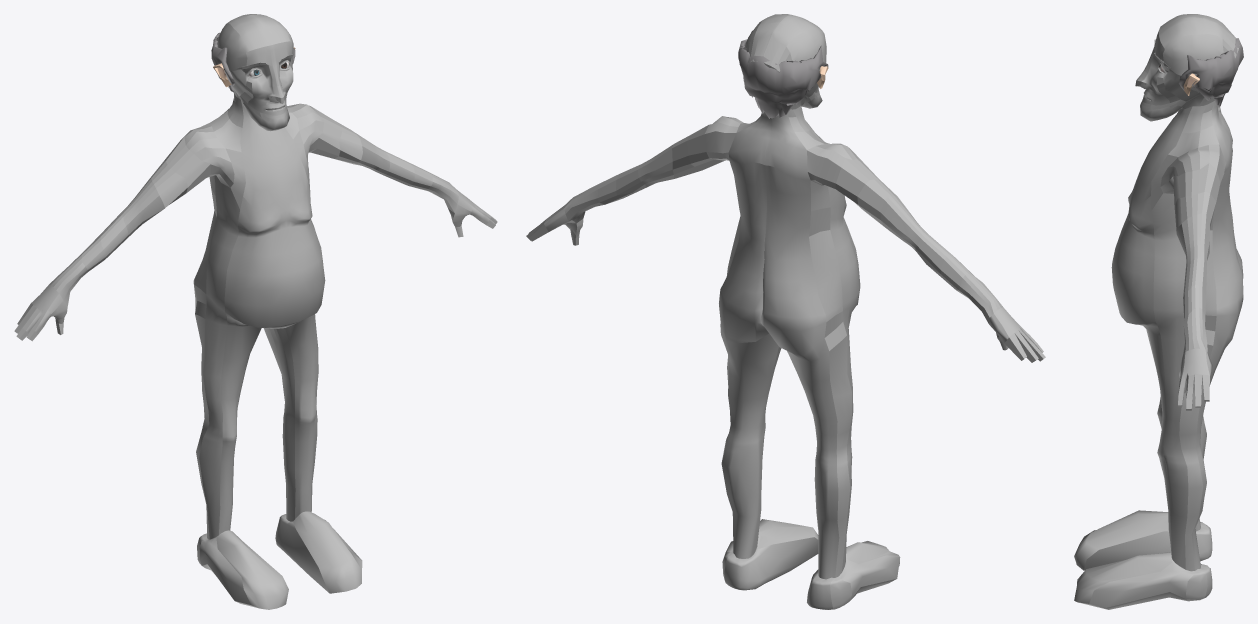
The model's file is reggie_wet_hair.fbx.
3 views of the same model, side by side, from view 1: azimuth 30°, elevation 25°; view 2: azimuth 150°, elevation 25°; view 3: azimuth 270°, elevation 25° (orthographic). The views are drawn at different scales.
Parts seen in each view (by area): view 1: ReggieBody; view 2: ReggieBody, hair; view 3: ReggieBody, hair.
Boxes of the visible parts, <box> form: ReggieBody: <box>14,14,497,609</box>; ReggieBody: <box>526,14,1045,609</box>; hair: <box>738,30,828,118</box>; ReggieBody: <box>1074,14,1243,609</box>; hair: <box>1179,38,1243,107</box>.
Bounding box in the file's own units: 34.63 × 37.56 × 10.22.
Materials: 5 (4 with a texture image).
